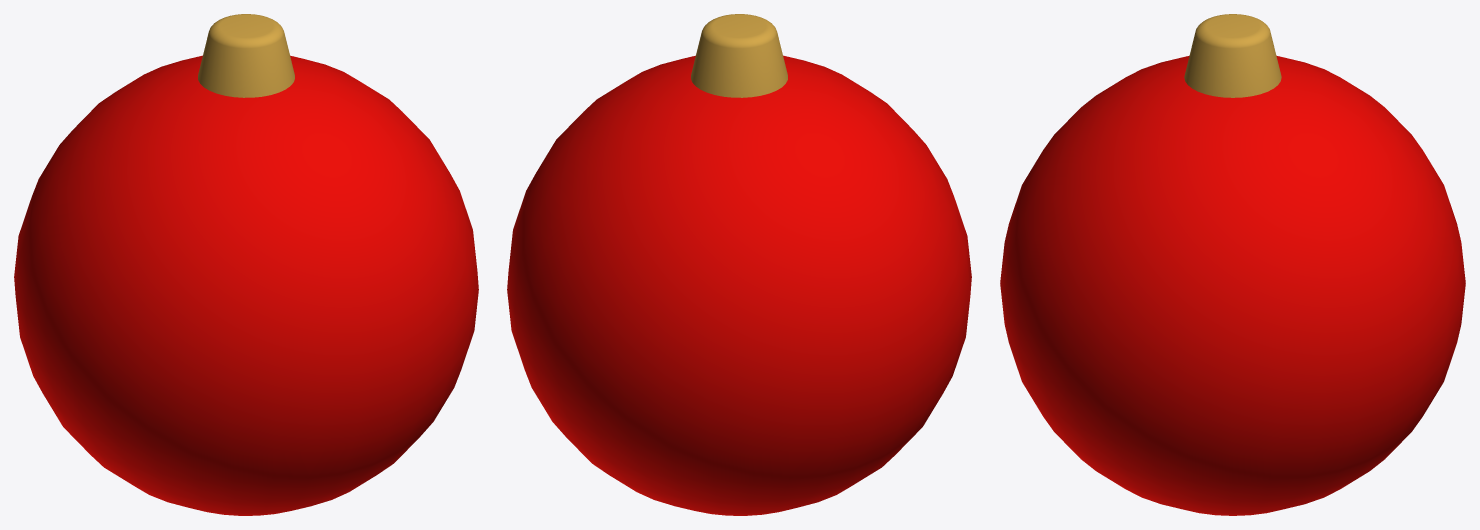
Rendered from ornament_red.gltf.
3 renders of one model, left to right at view 1: azimuth 30°, elevation 25°; view 2: azimuth 150°, elevation 25°; view 3: azimuth 270°, elevation 25°, orthographic.
Parts seen in each view (by area): view 1: ornament_red; view 2: ornament_red; view 3: ornament_red.
Part boxes in pixels (x1=…): ornament_red: x1=14, y1=14, x2=478, y2=515; ornament_red: x1=507, y1=14, x2=971, y2=515; ornament_red: x1=1000, y1=14, x2=1465, y2=515.
Bounding box in the file's own units: 1.98 × 2.2 × 1.98.
